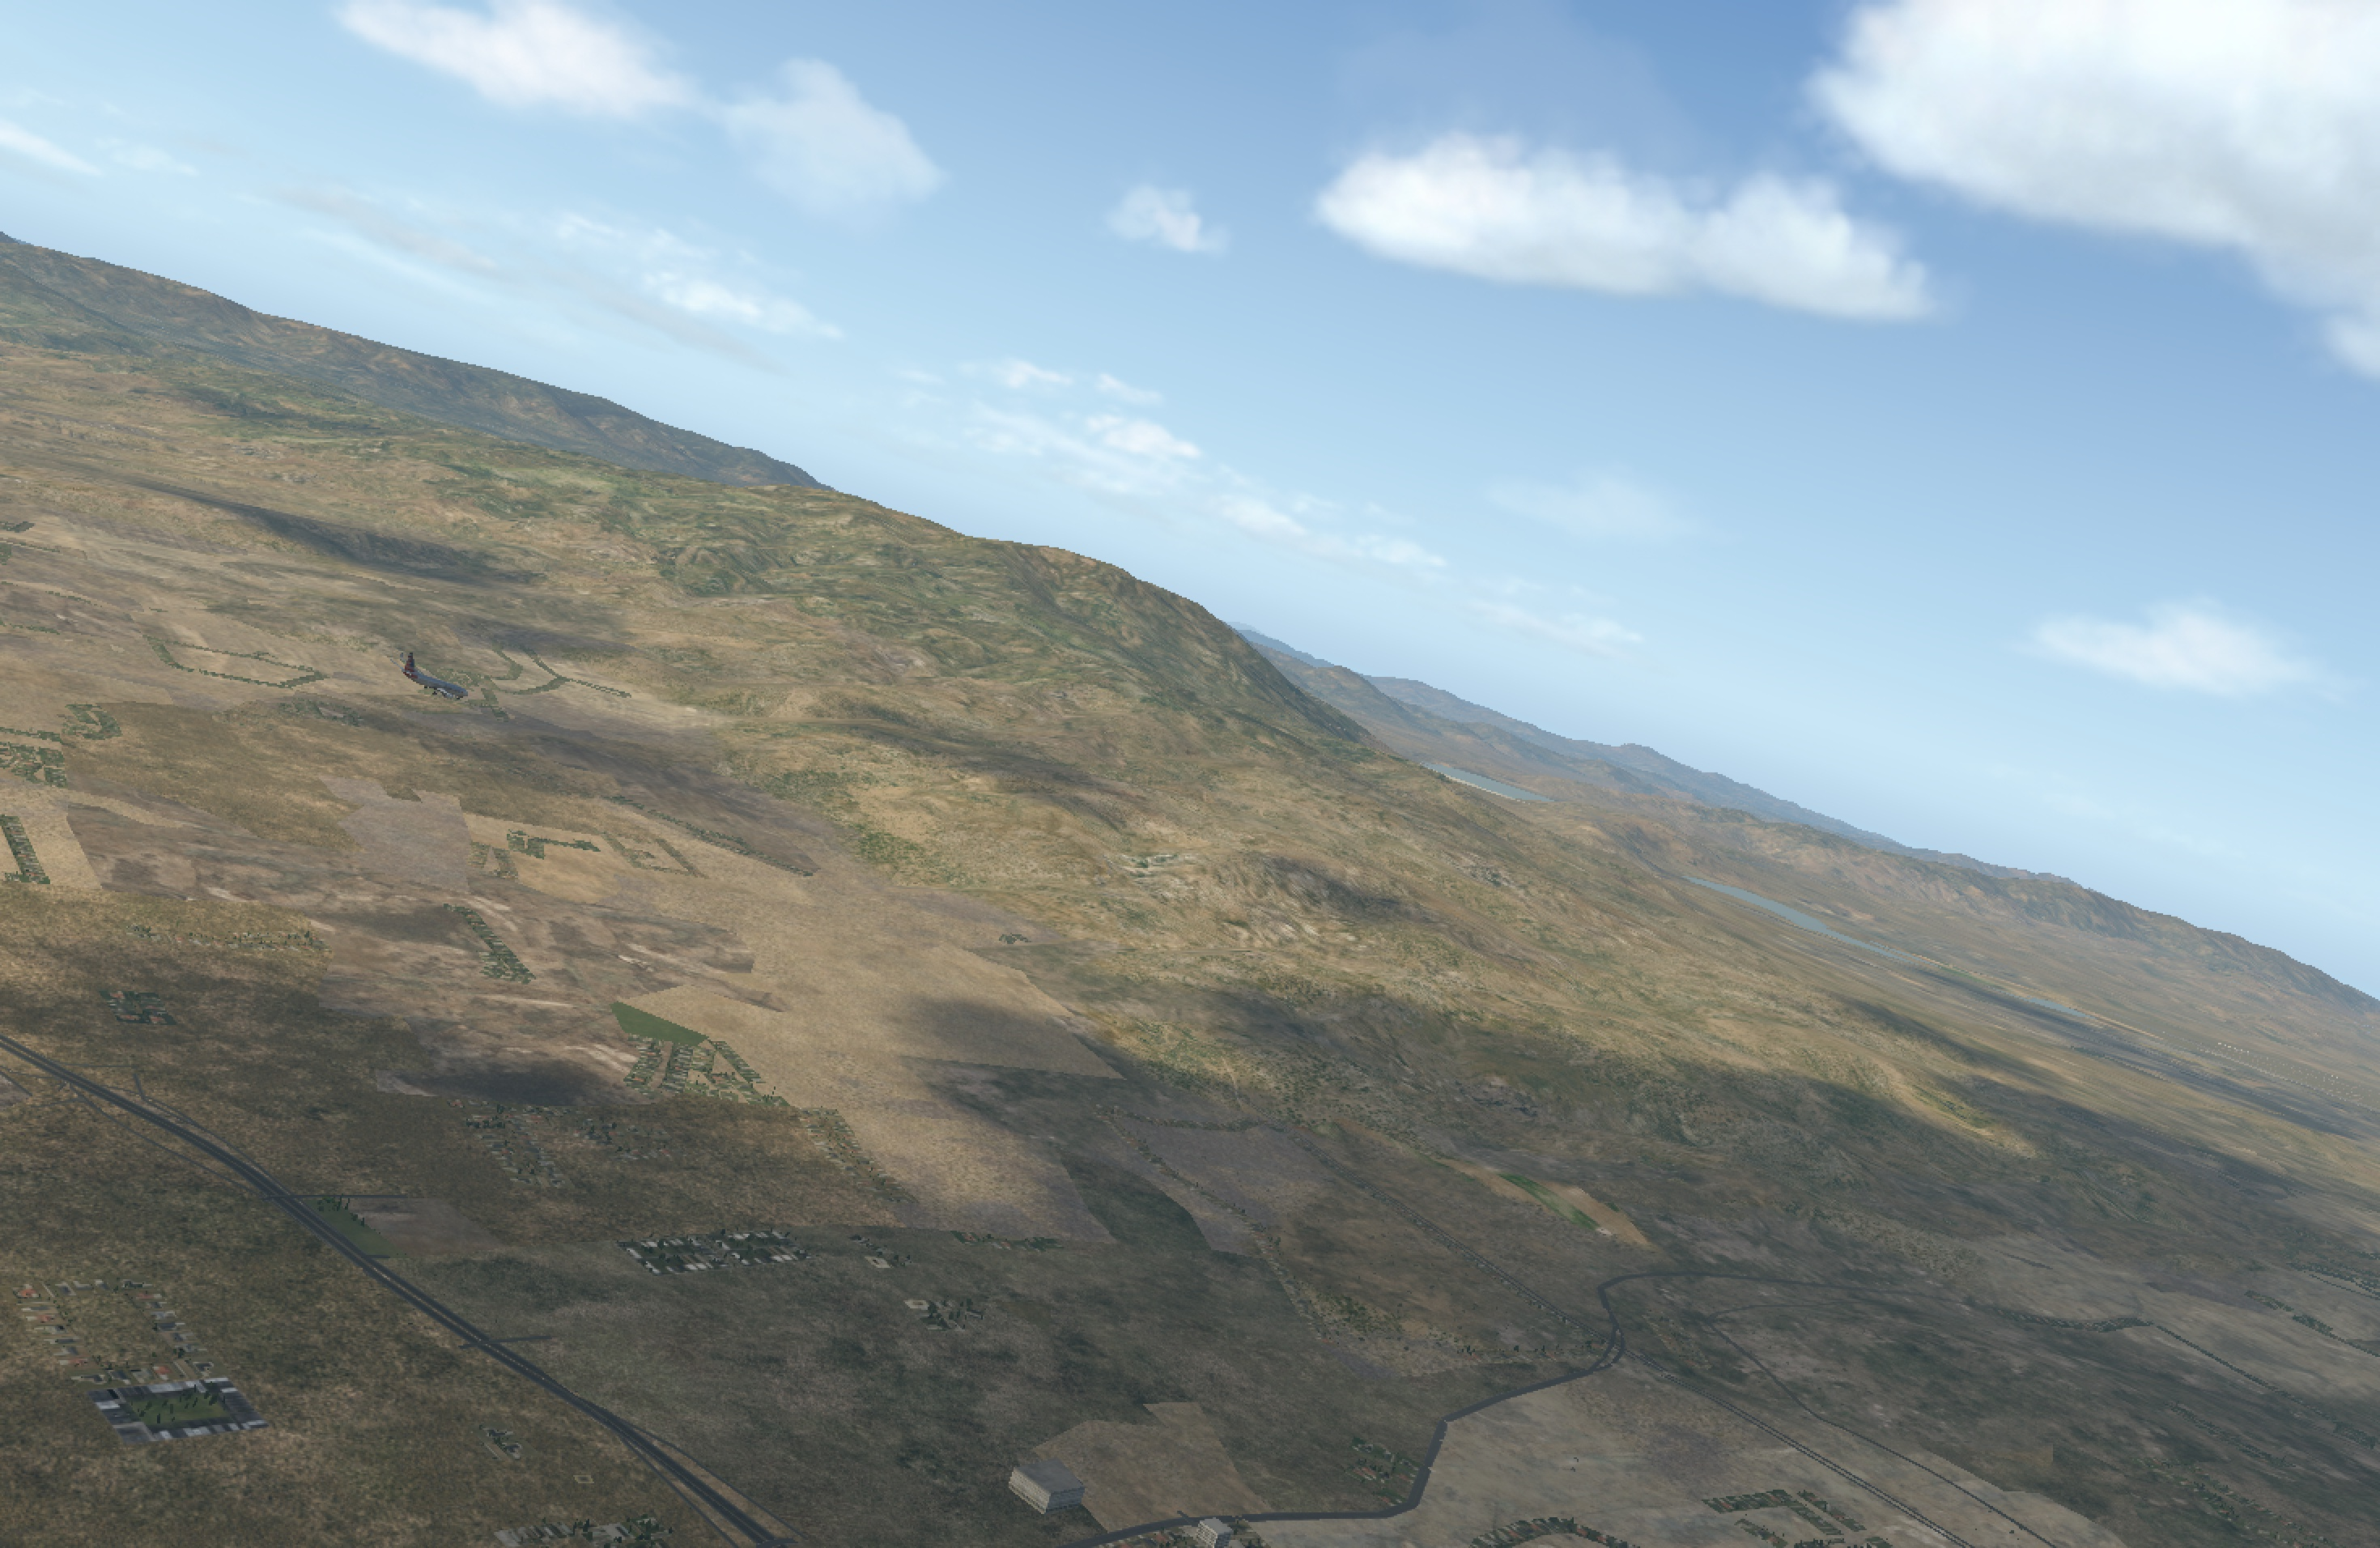aircraft: (389, 668, 482, 703)
